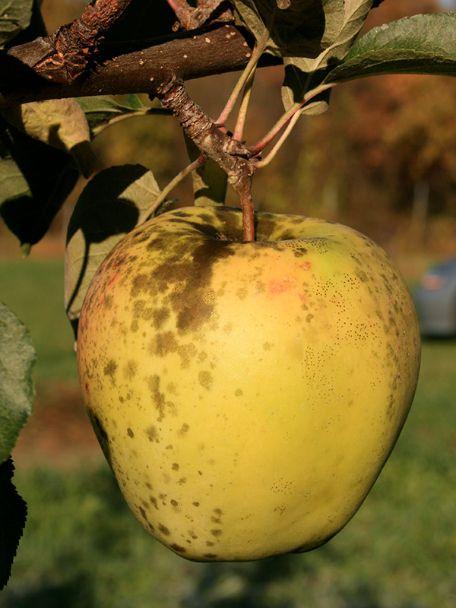BLOTCH: (58, 168, 444, 597)
